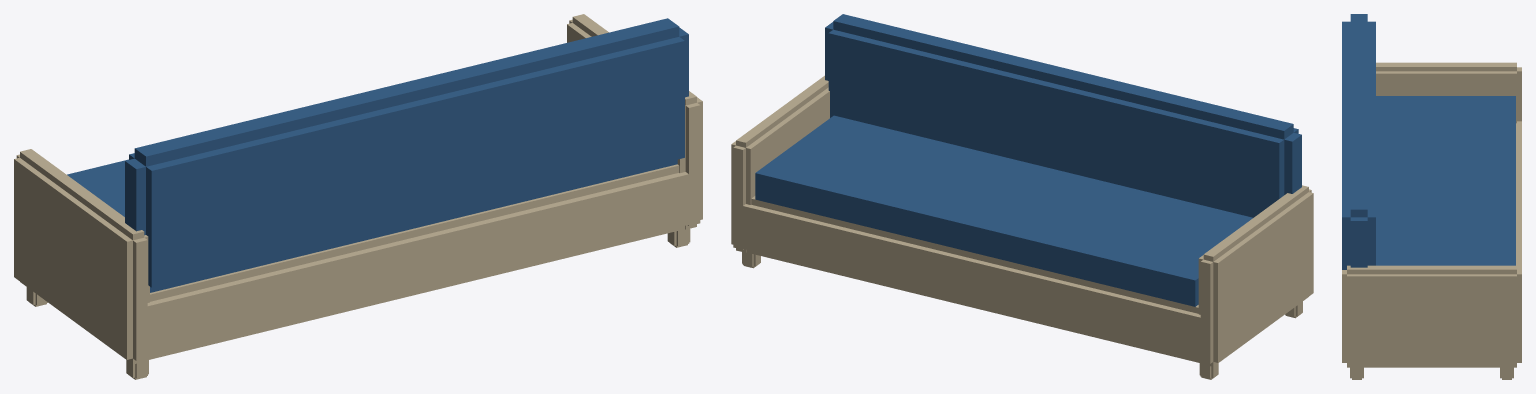
The model's file is boreal_sofa_v0.glb.
3 renders of one model, left to right at view 1: azimuth 30°, elevation 25°; view 2: azimuth 150°, elevation 25°; view 3: azimuth 270°, elevation 25°, orthographic. The views are drawn at different scales.
Parts seen in each view (by area): view 1: boreal_sofa_v0; view 2: boreal_sofa_v0; view 3: boreal_sofa_v0.
Boxes of the visible parts, x1=… form: boreal_sofa_v0: x1=14, y1=14, x2=702, y2=379; boreal_sofa_v0: x1=731, y1=14, x2=1313, y2=379; boreal_sofa_v0: x1=1342, y1=14, x2=1521, y2=379.
Size of the model in its own units: 2.5 by 0.92 by 0.9.
